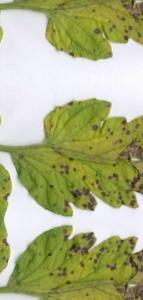Tomato Septoria leaf spot: (13, 88, 143, 221), (0, 153, 23, 217)
